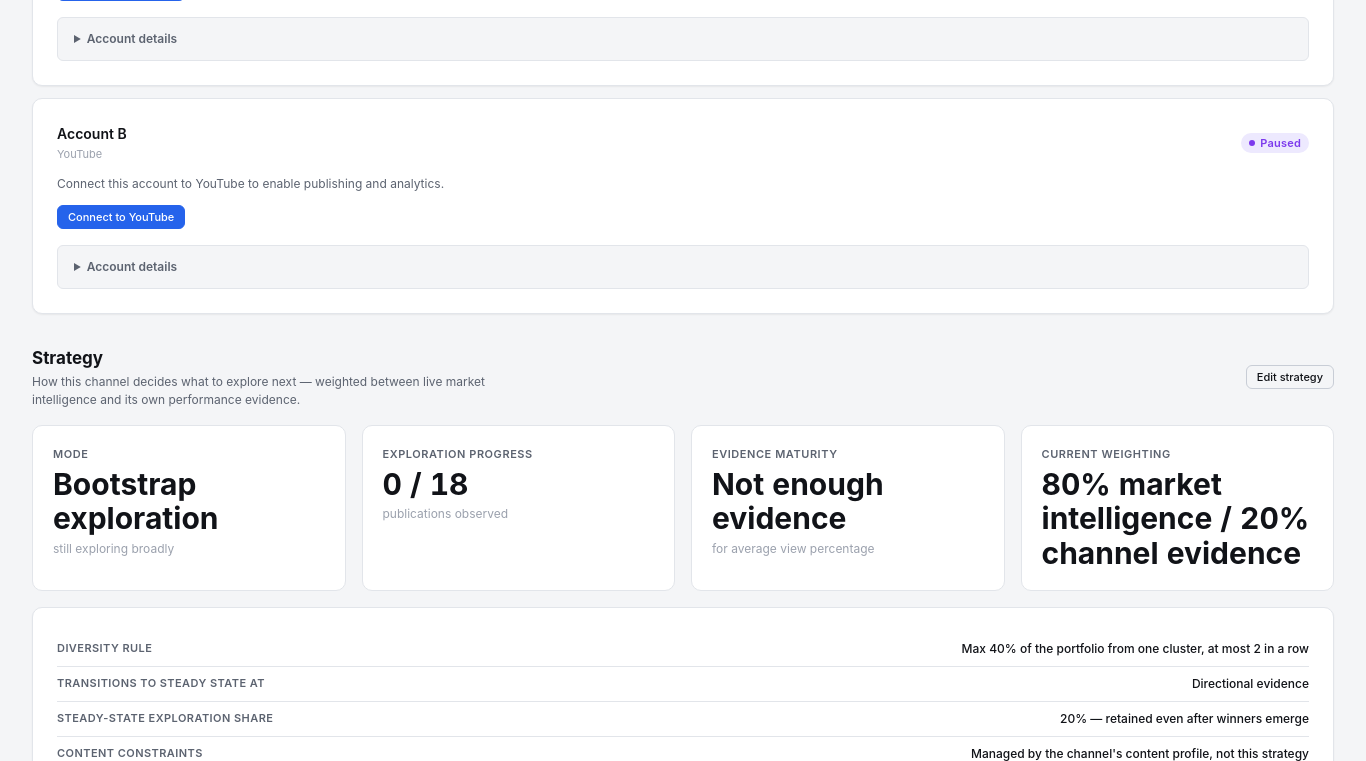
Channels › strategy › editing › saves a new version and closes the modal
(page scrolled)
Step 1. Click the button "Edit strategy" → {"x": 1290, "y": 377}, box [1246, 365, 1334, 389]
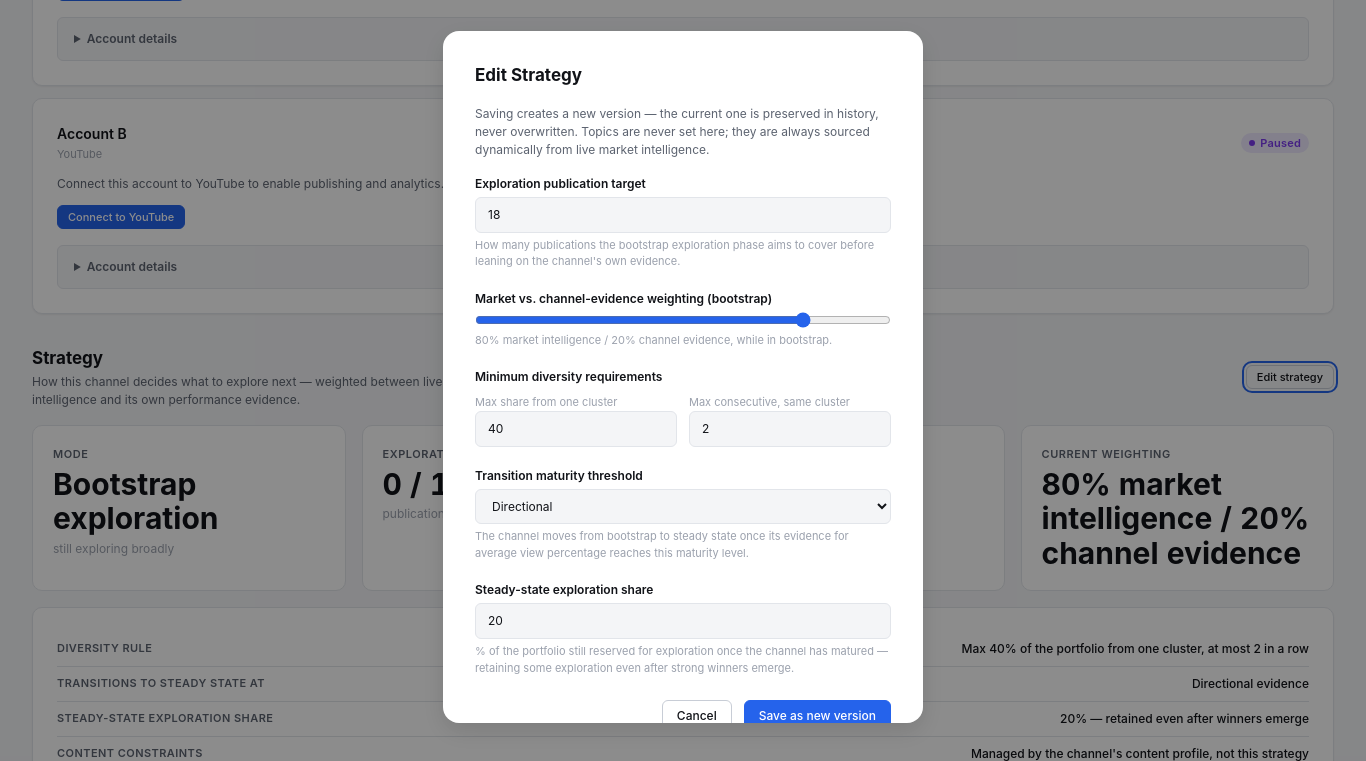
Step 2. Click the button "Save as new version" → {"x": 817, "y": 716}, box [744, 700, 891, 731]
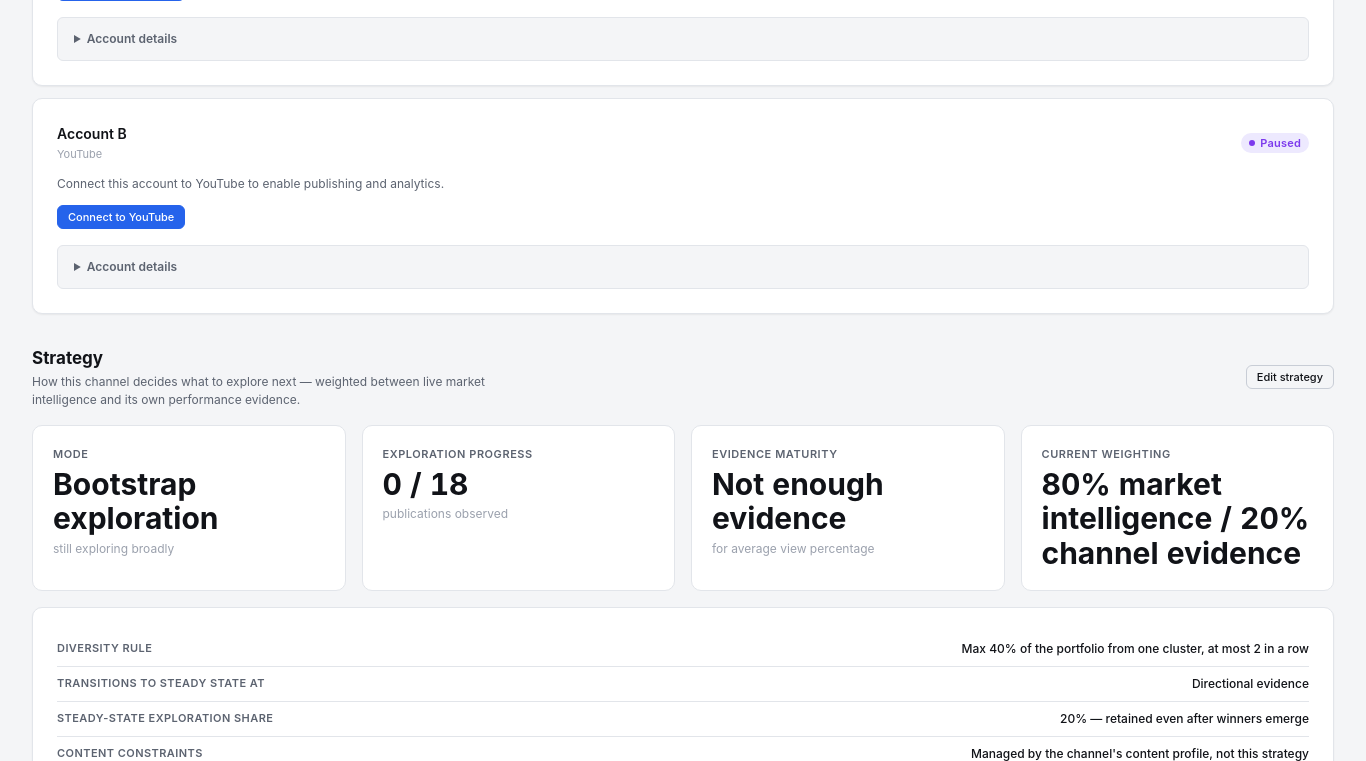
Result: the dialog is gone
